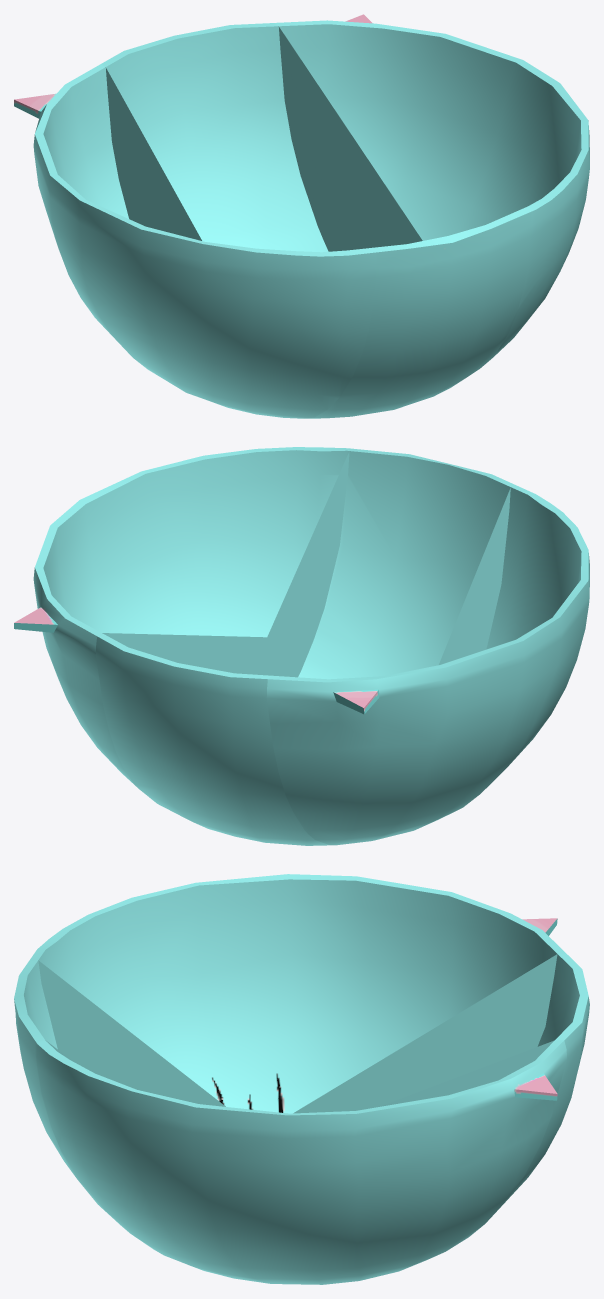
File: catBowl.fbx
3 views of the same model, one above another, from view 1: azimuth 30°, elevation 25°; view 2: azimuth 150°, elevation 25°; view 3: azimuth 270°, elevation 25° (orthographic). The views are drawn at different scales.
Visible parts, largest first — view 1: bowluv.002, bowluv, bowluv.003; view 2: bowluv.002, bowluv.003, bowluv; view 3: bowluv, bowluv.003, bowluv.002.
Part boxes in pixels (bbox=[...]): bowluv.002: bbox=[101, 23, 531, 418]; bowluv: bbox=[14, 64, 376, 418]; bowluv.003: bbox=[274, 14, 589, 363]; bowluv.002: bbox=[95, 449, 514, 845]; bowluv.003: bbox=[14, 447, 353, 785]; bowluv: bbox=[266, 485, 589, 845]; bowluv: bbox=[29, 874, 566, 1113]; bowluv.003: bbox=[35, 1039, 567, 1284]; bowluv.002: bbox=[14, 954, 589, 1250].
Size of the model in its own units: 5.94 by 2.62 by 5.95.
